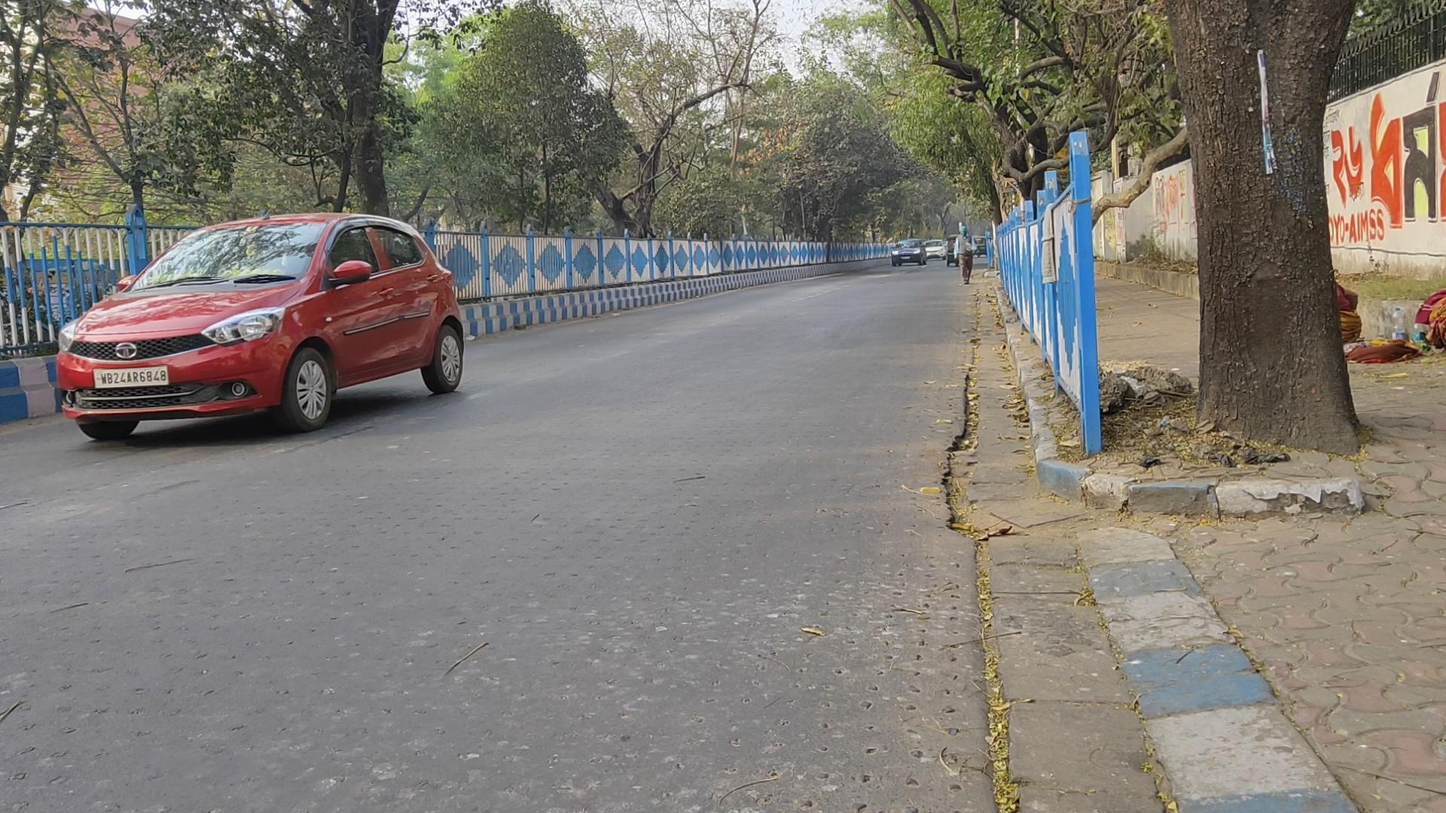Auto: (947, 235, 972, 268), (973, 235, 987, 257)
car: (55, 210, 463, 442), (892, 237, 928, 266), (924, 239, 948, 262)
